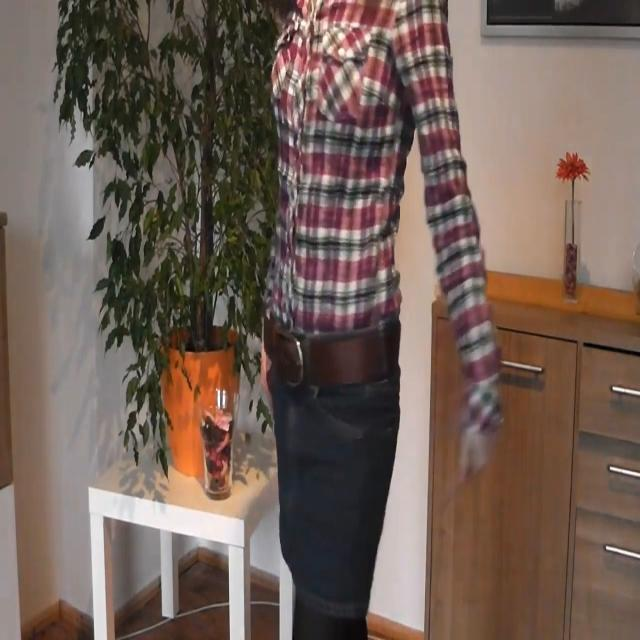Shirt: (262, 0, 506, 436)
